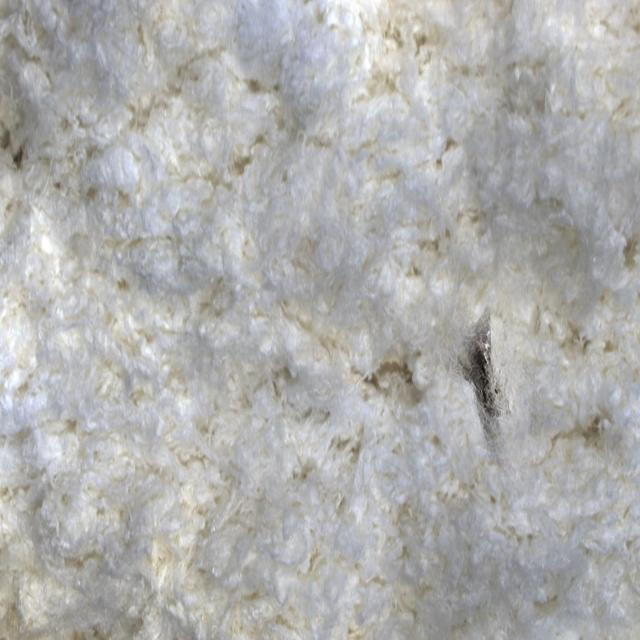dust: (409, 282, 552, 474)
